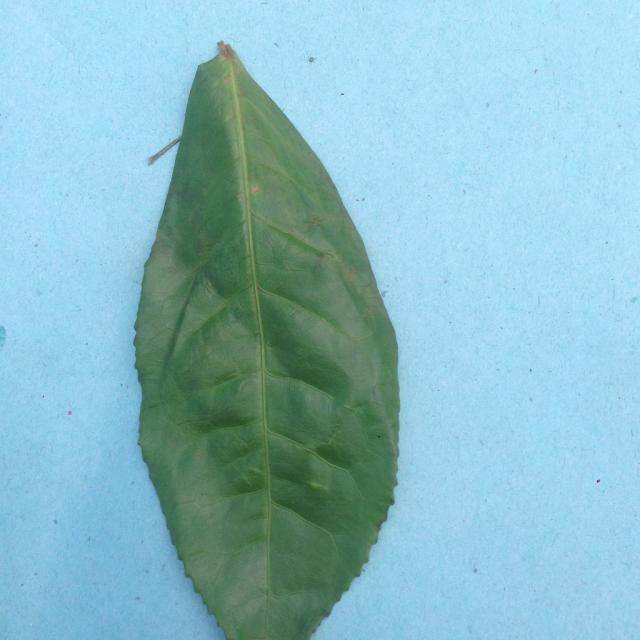Healthy: (130, 28, 406, 640)
